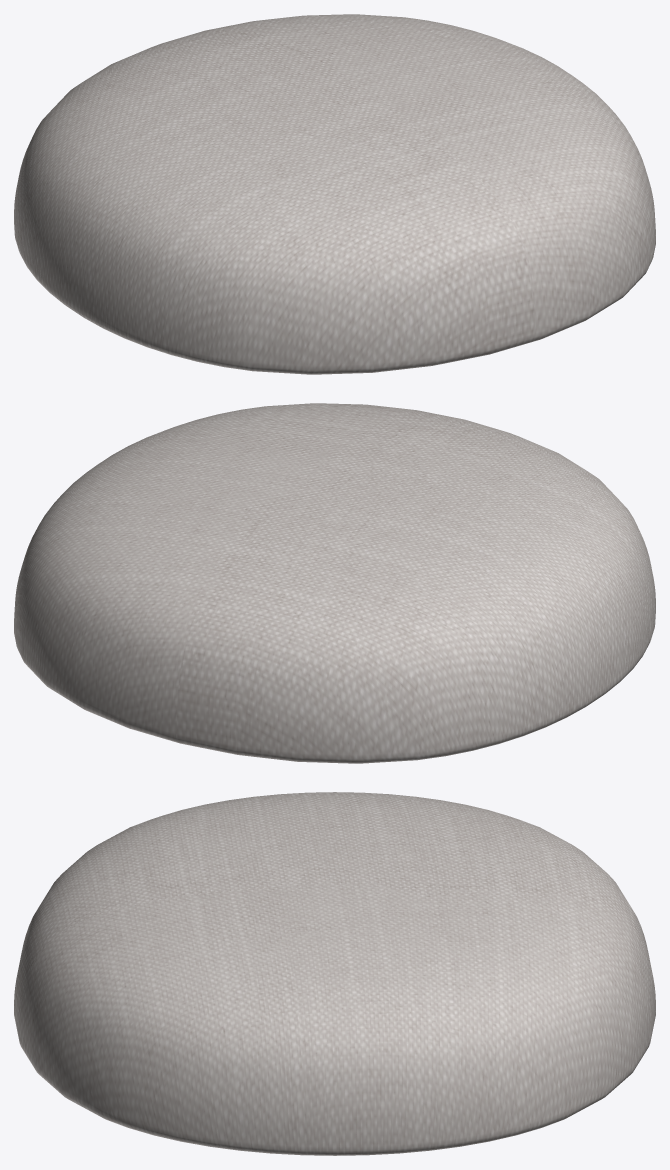
The model's file is ST-布坐垫.fbx.
3 renders of one model, top to bottom at view 1: azimuth 30°, elevation 25°; view 2: azimuth 150°, elevation 25°; view 3: azimuth 270°, elevation 25°, orthographic. The views are drawn at different scales.
Visible parts, largest first — view 1: ST-布坐垫; view 2: ST-布坐垫; view 3: ST-布坐垫.
Part boxes in pixels (x1,y1,x2,y2): ST-布坐垫: (14,14,655,374); ST-布坐垫: (14,403,655,763); ST-布坐垫: (14,792,655,1155).
Size of the model in its own units: 0.5653 by 0.5653 by 0.1486.
